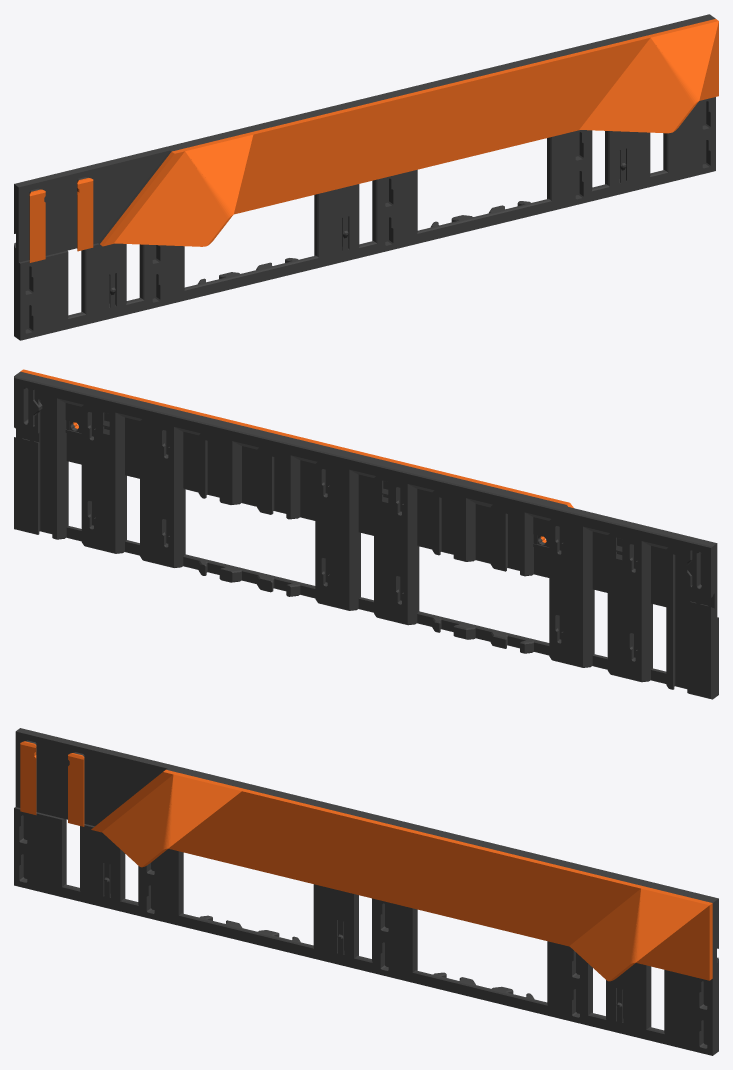
File: Faceplate_EdgeLabel_3W-1H.lib.glb
3 renders of one model, top to bottom at view 1: azimuth 30°, elevation 25°; view 2: azimuth 150°, elevation 25°; view 3: azimuth 330°, elevation 25°, orthographic.
Parts seen in each view (by area): view 1: Faceplate_EdgeLabel_3W-1H; view 2: Faceplate_EdgeLabel_3W-1H; view 3: Faceplate_EdgeLabel_3W-1H.
Part boxes in pixels (<box>): Faceplate_EdgeLabel_3W-1H: <box>14,14,718,340</box>; Faceplate_EdgeLabel_3W-1H: <box>14,369,718,699</box>; Faceplate_EdgeLabel_3W-1H: <box>14,728,718,1055</box>.
Size of the model in its own units: 263 by 55 by 24.11.
